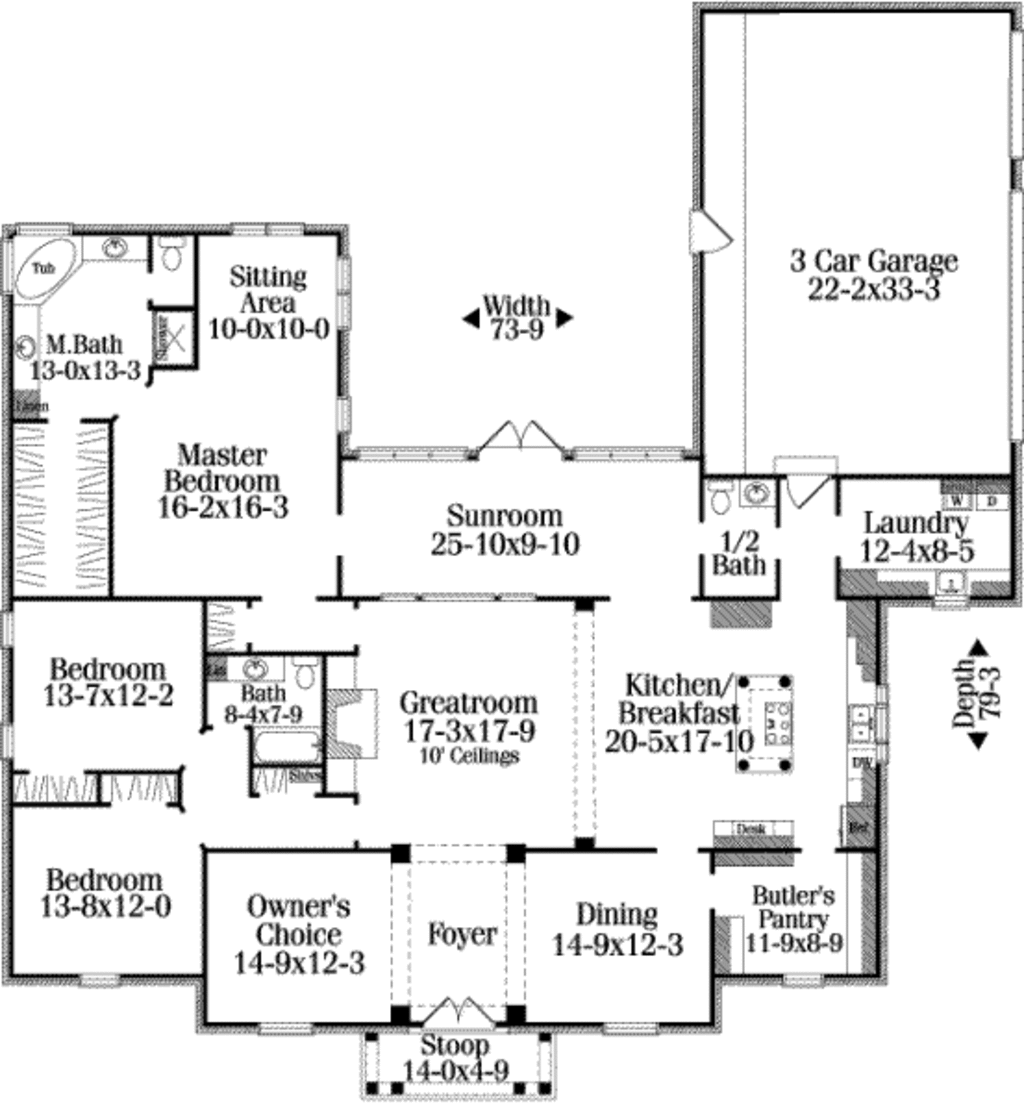door: (470, 418, 568, 468), (422, 994, 492, 1036), (688, 203, 739, 253), (783, 474, 833, 515)
kitchen_bar: (726, 668, 803, 778)
large_sink: (288, 649, 328, 697), (702, 478, 740, 519), (153, 237, 191, 276)
sink: (927, 570, 972, 603)
small_sink: (8, 301, 42, 400), (80, 234, 146, 267), (225, 655, 284, 682), (738, 479, 775, 507)
tub: (13, 238, 84, 304), (252, 726, 327, 764)
twin_sink: (849, 703, 879, 750)
window: (351, 443, 474, 464), (329, 252, 360, 334), (571, 442, 686, 462), (227, 221, 314, 242), (597, 1020, 663, 1046), (253, 1021, 314, 1040), (72, 973, 126, 986), (1, 725, 15, 770), (780, 972, 824, 985), (3, 610, 15, 652)
